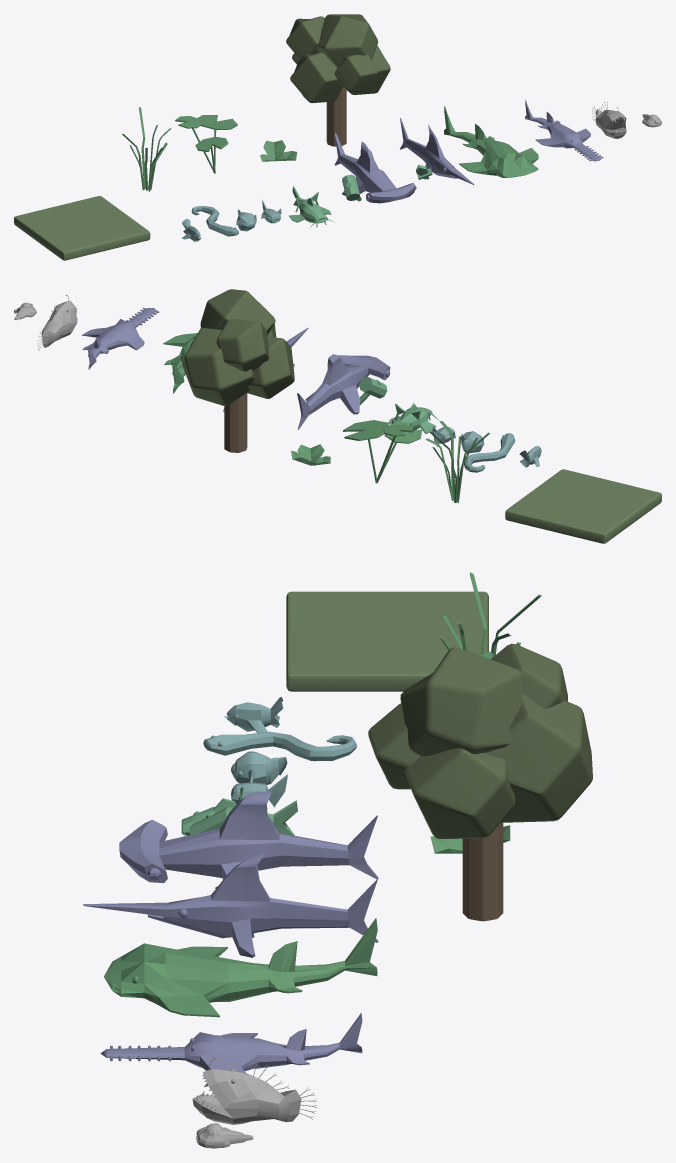
The model's file is FishAssetsTrees.fbx.
3 renders of one model, top to bottom at view 1: azimuth 30°, elevation 25°; view 2: azimuth 150°, elevation 25°; view 3: azimuth 270°, elevation 25°, orthographic. The views are drawn at different scales.
Parts seen in each view (by area): view 1: Tree_2, Ground_Empty, GuitarFish, HammerheadShark1, SawFIsh, SwordFish, Waterplant2, Waterplant1, AnglerFish, Catfish1, Waterplant3, Eel (+1 smaller); view 2: Tree_2, Ground_Empty, HammerheadShark1, SawFIsh, Waterplant2, AnglerFish, Waterplant1, GuitarFish, Eel, Catfish1, Waterplant3, Hammer; view 3: Tree_2, Ground_Empty, GuitarFish, HammerheadShark1, SwordFish, SawFIsh, AnglerFish, Eel, Pufferfish_Bloated, Piranha, Catfish1, Waterplant1 (+1 smaller).
Part boxes in pixels (box(x1,y1,x2,y2)): Tree_2: box(286, 14, 390, 146); Ground_Empty: box(14, 196, 150, 260); GuitarFish: box(444, 106, 538, 177); HammerheadShark1: box(334, 133, 416, 203); SawFIsh: box(525, 99, 603, 161); SwordFish: box(400, 118, 473, 184); Waterplant2: box(175, 115, 237, 173); Waterplant1: box(122, 107, 171, 191); AnglerFish: box(592, 101, 626, 138); Catfish1: box(288, 186, 333, 228); Waterplant3: box(260, 140, 297, 161); Eel: box(191, 206, 238, 236); Tree_2: box(182, 289, 294, 452); Ground_Empty: box(505, 469, 661, 543); HammerheadShark1: box(297, 354, 390, 429); SawFIsh: box(81, 307, 158, 369); Waterplant2: box(343, 420, 421, 483); AnglerFish: box(37, 295, 77, 350); Waterplant1: box(425, 421, 490, 502); GuitarFish: box(163, 333, 197, 393); Eel: box(464, 433, 515, 472); Catfish1: box(388, 403, 439, 433); Waterplant3: box(291, 444, 330, 465); Hammer: box(359, 376, 387, 404); Tree_2: box(368, 643, 592, 921); Ground_Empty: box(286, 591, 488, 691); GuitarFish: box(104, 918, 377, 1017); HammerheadShark1: box(119, 791, 378, 883); SwordFish: box(83, 850, 378, 957); SawFIsh: box(100, 1013, 362, 1073); AnglerFish: box(192, 1057, 316, 1124); Eel: box(203, 731, 356, 761); Pufferfish_Bloated: box(231, 750, 287, 784); Piranha: box(224, 697, 283, 732); Catfish1: box(181, 798, 297, 836); Waterplant1: box(439, 572, 541, 656).
Size of the model in its own units: 19.82 by 4.62 by 7.55.
